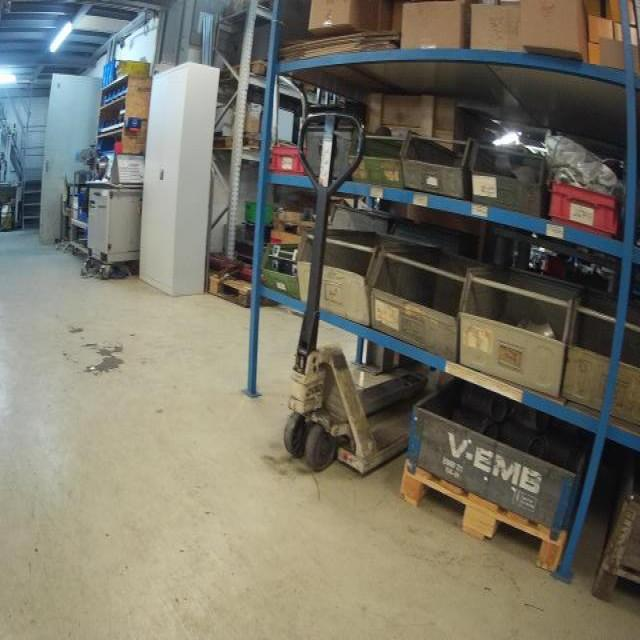pallet: (397, 458, 567, 572), (588, 554, 639, 606), (208, 269, 268, 308), (220, 61, 271, 80), (214, 134, 262, 152)
pallet_truck: (265, 103, 443, 485)
small_load_carrier: (548, 173, 623, 241), (268, 142, 310, 178)
